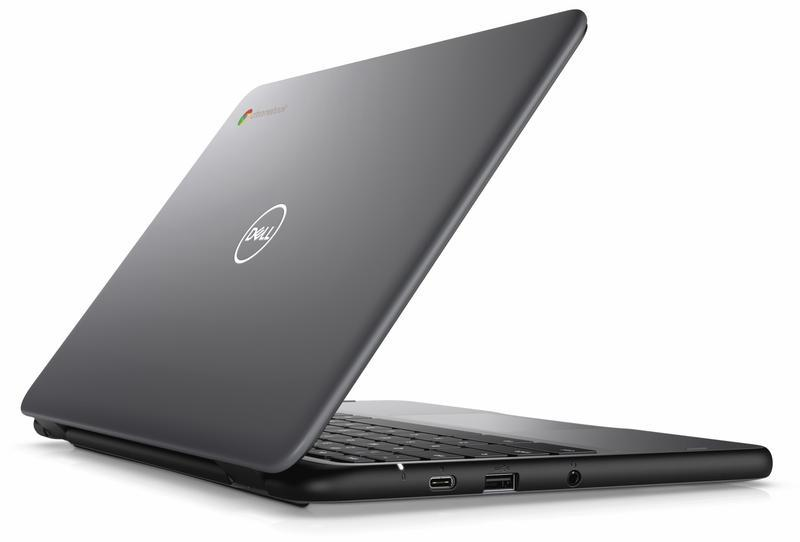laptop: (25, 10, 788, 509)
